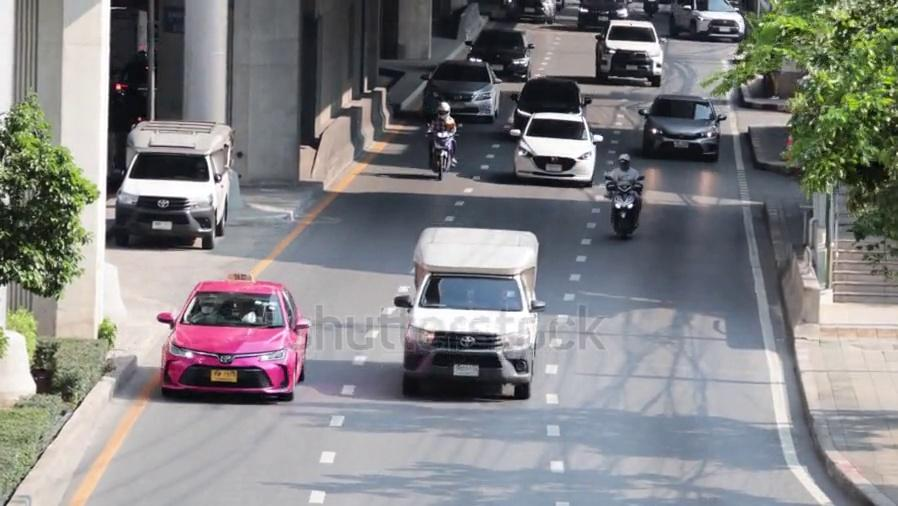rider: (604, 153, 641, 238), (426, 101, 458, 169)
with_helmate: (432, 102, 451, 119), (616, 154, 631, 171)
